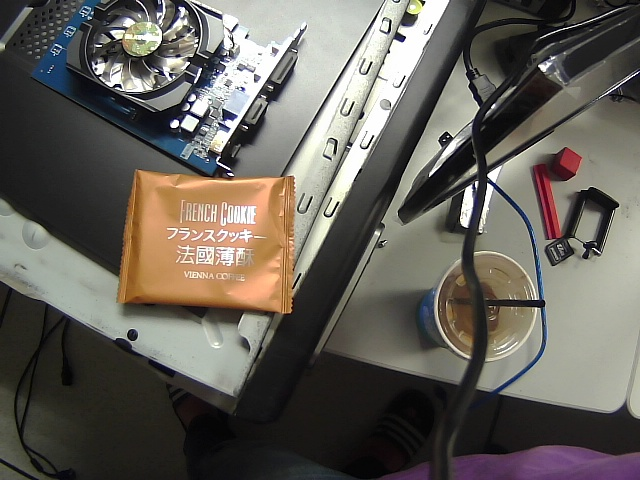frenchcookie: (111, 158, 308, 324)
